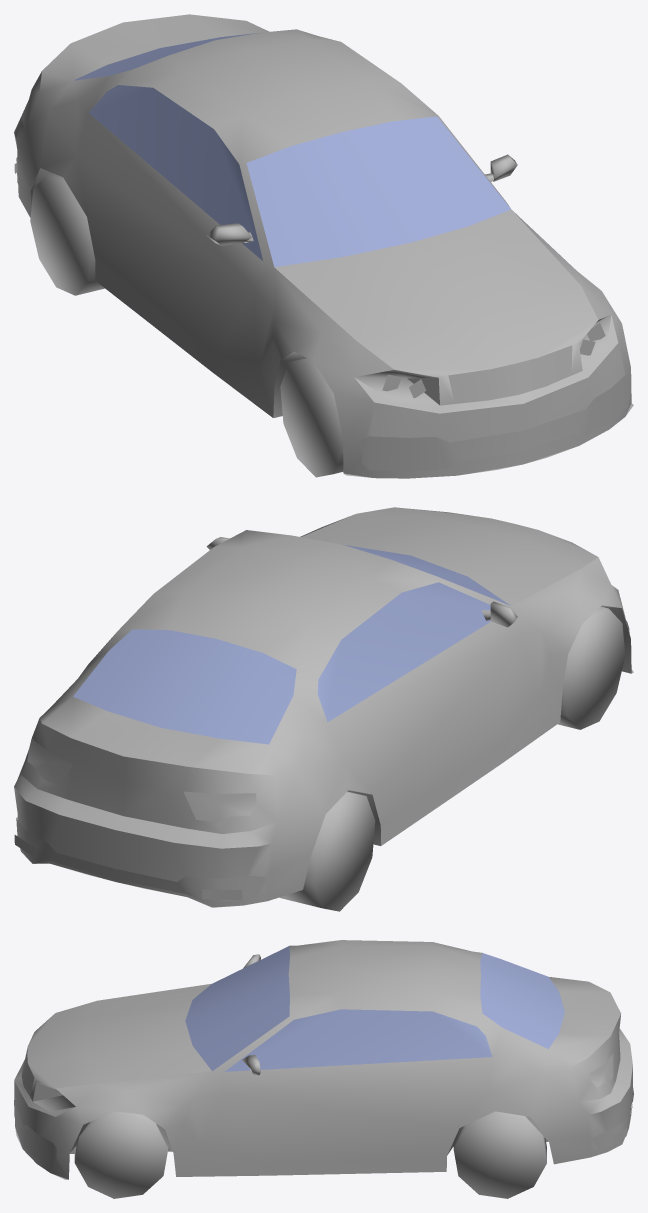
File: Car_34_LOD2.FBX
3 views of the same model, one above another, from view 1: azimuth 30°, elevation 25°; view 2: azimuth 150°, elevation 25°; view 3: azimuth 270°, elevation 25° (orthographic). The views are drawn at different scales.
Parts seen in each view (by area): view 1: Body_34_LOD2, Glass_34_LOD2, Matte_34_LOD2, Wheel_Back_R_LOD2, Wheel_R_LOD2; view 2: Body_34_LOD2, Glass_34_LOD2, Wheel_Back_R_LOD2, Matte_34_LOD2, Wheel_R_LOD2, Taillights_34_LOD2; view 3: Body_34_LOD2, Glass_34_LOD2, Wheel_L_LOD2, Wheel_Back_L_LOD2, Matte_34_LOD2, Taillights_34_LOD2.
Part boxes in pixels (<box>): Body_34_LOD2: <box>14,14,631,478</box>; Glass_34_LOD2: <box>74,32,511,267</box>; Matte_34_LOD2: <box>14,154,633,477</box>; Wheel_Back_R_LOD2: <box>30,173,104,295</box>; Wheel_R_LOD2: <box>280,358,343,477</box>; Body_34_LOD2: <box>14,507,629,907</box>; Glass_34_LOD2: <box>73,544,510,744</box>; Wheel_Back_R_LOD2: <box>279,791,375,911</box>; Matte_34_LOD2: <box>14,537,633,907</box>; Wheel_R_LOD2: <box>558,606,625,729</box>; Taillights_34_LOD2: <box>27,739,256,821</box>; Body_34_LOD2: <box>14,940,632,1179</box>; Glass_34_LOD2: <box>185,946,564,1071</box>; Wheel_L_LOD2: <box>74,1111,167,1198</box>; Wheel_Back_L_LOD2: <box>453,1111,546,1198</box>; Matte_34_LOD2: <box>14,954,633,1179</box>; Taillights_34_LOD2: <box>590,1054,613,1086</box>.
Bounding box in the file's own units: 1.84 × 1.35 × 4.22.
